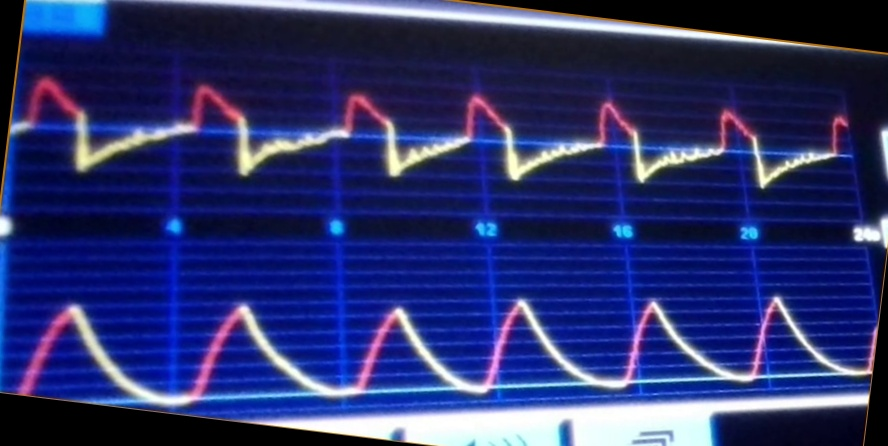Accumulation Flow: (16, 74, 850, 204)
Volume: (16, 288, 868, 408)
